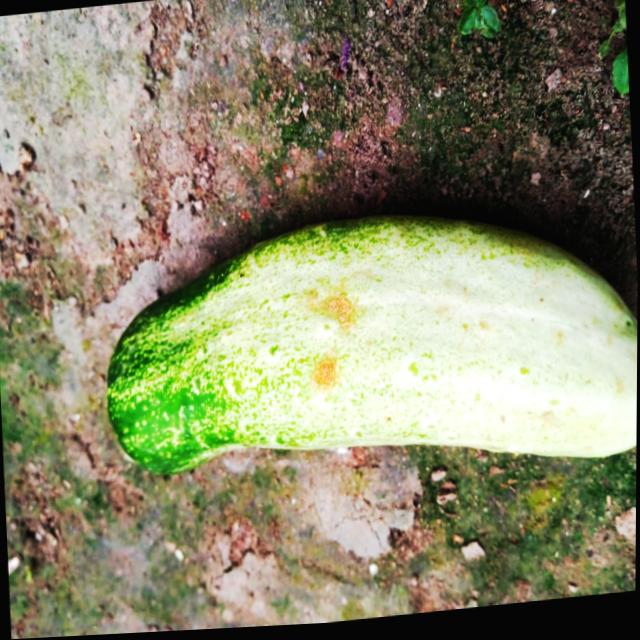Belly-Rot: (303, 284, 366, 402)
